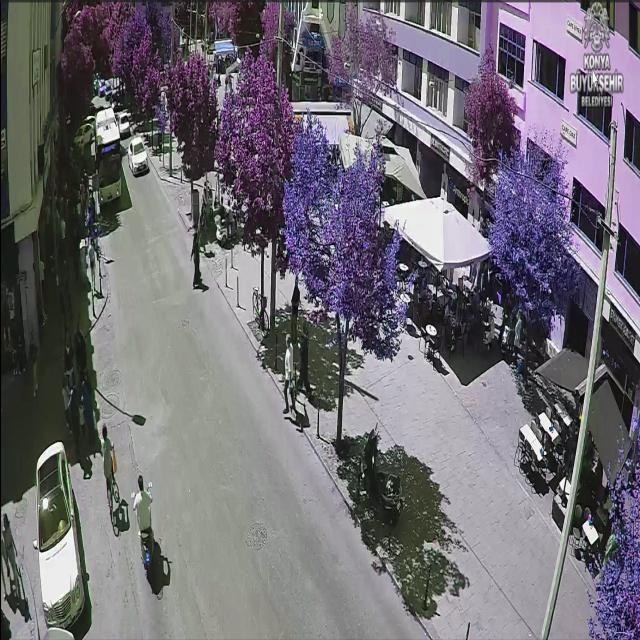Bus: (94, 106, 122, 206)
Car: (30, 441, 86, 632), (128, 138, 148, 176), (73, 124, 95, 150), (117, 112, 131, 138), (82, 115, 97, 126), (104, 84, 113, 100), (98, 79, 107, 95)
Cycle: (130, 480, 159, 580)
